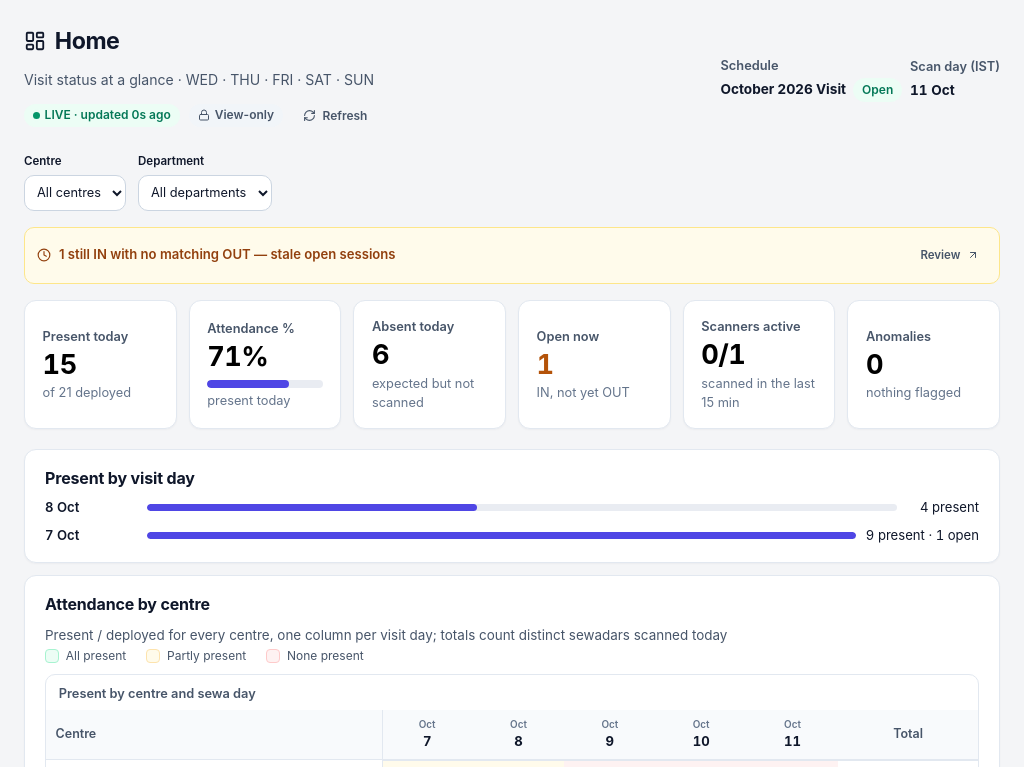
DashboardPage — centre + department filters › filters KPI tiles by centre
expect the button "Present today 15 of 21 deployed" is shown: met, box top-left (24, 300), bottom-right (177, 429)
Select "DELHI" in the dropdown labelled "Centre" at (75, 193), box top-left (24, 175), bottom-right (126, 211)
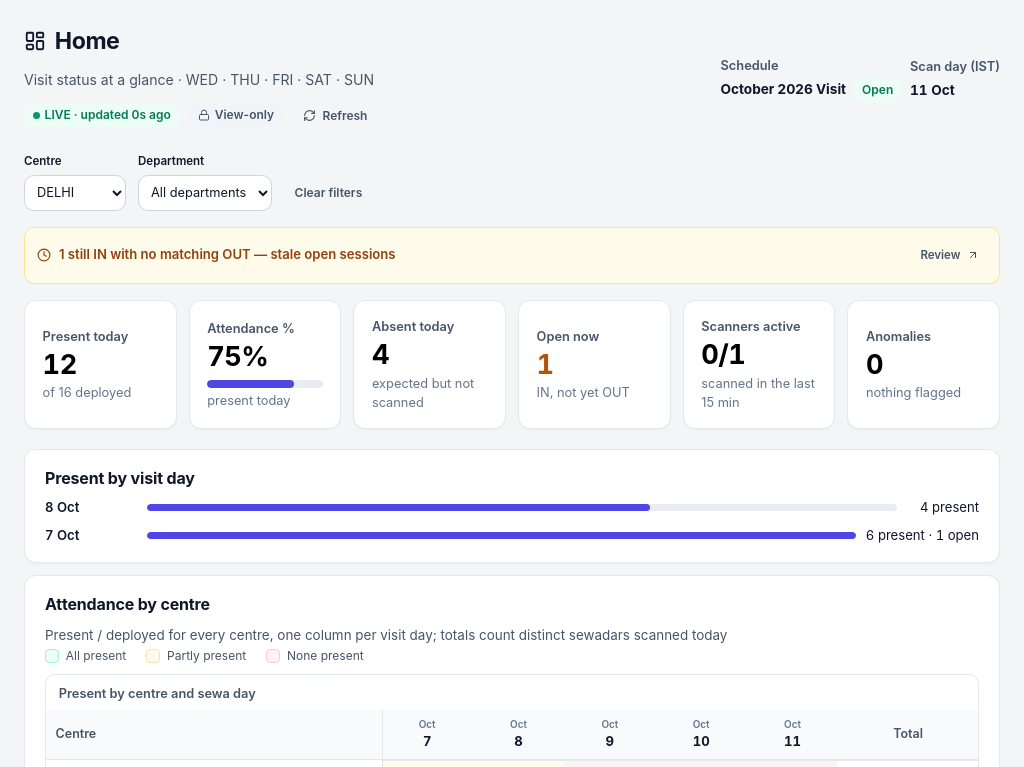
expect the button "Present today 12 of 16 deployed" is shown: met, box top-left (24, 300), bottom-right (177, 429)
